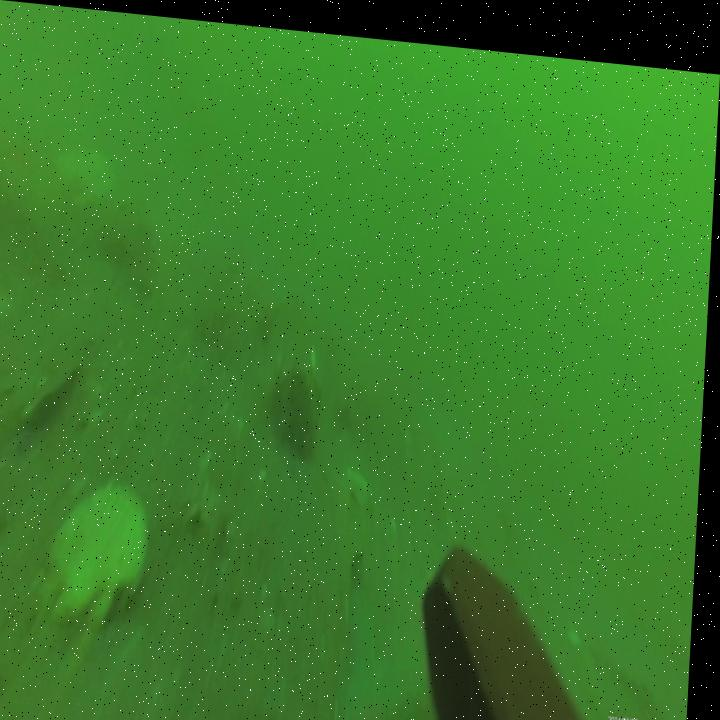scallop: (58, 473, 154, 622)
